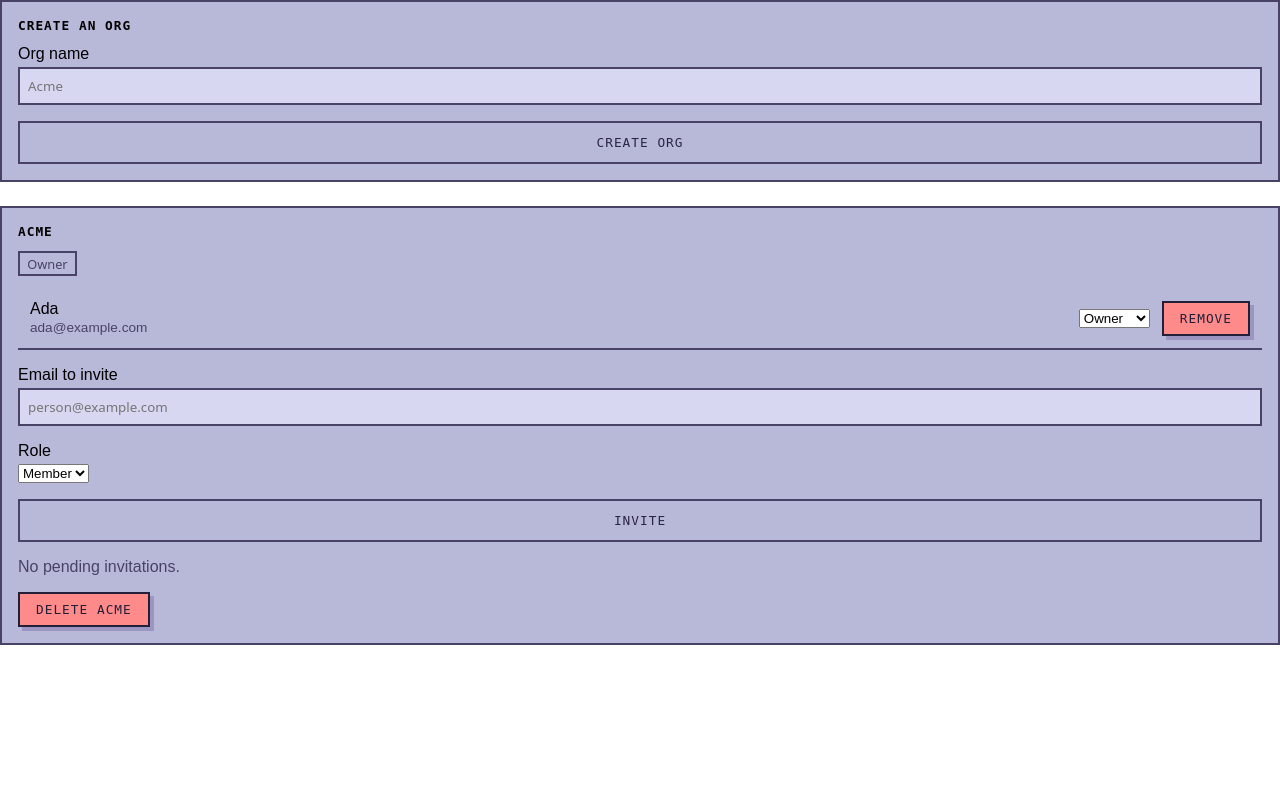
Test case: OrgsPage › deletes the org and stops listing it
The width and height of the screenshot is (1280, 800).
Click the button "Delete Acme".
click(84, 610)  # box x1=18 y1=592 x2=150 y2=627
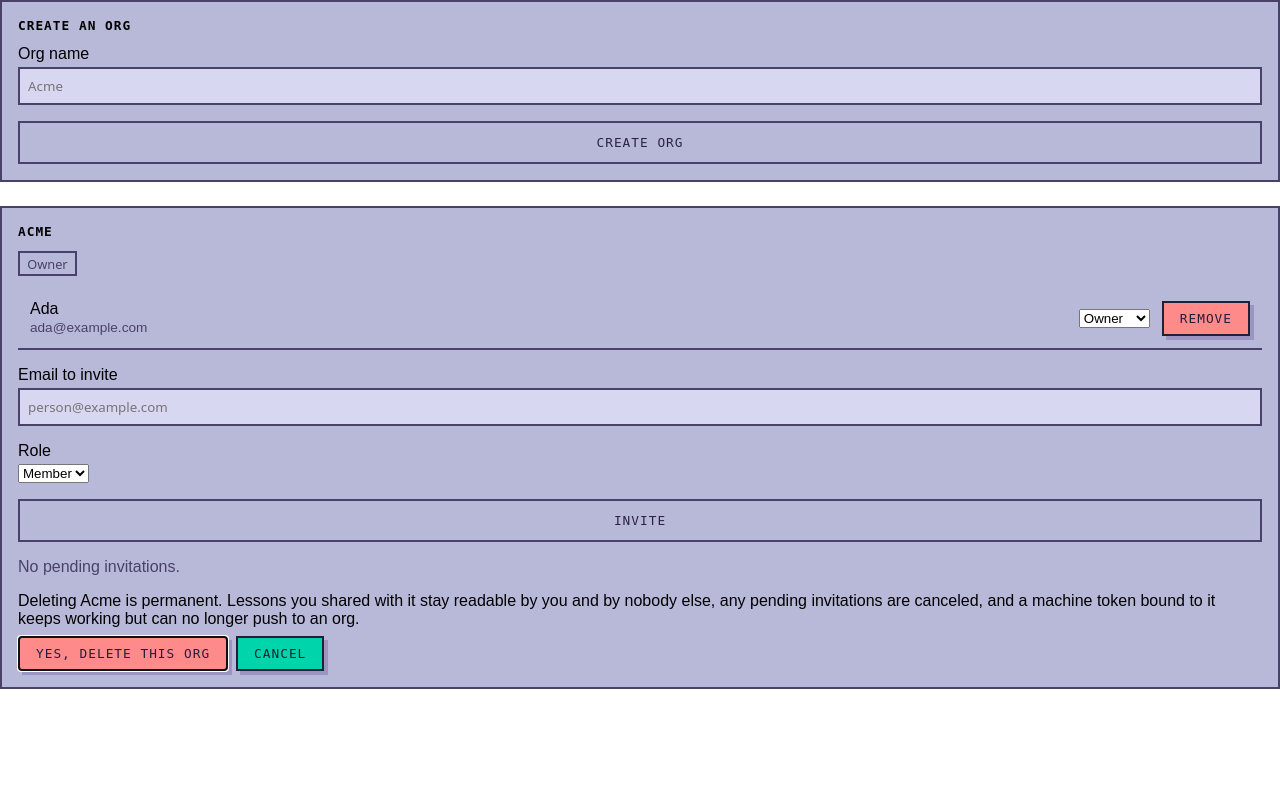
Click the button "Yes, delete this org".
click(123, 654)  # box x1=18 y1=636 x2=228 y2=671
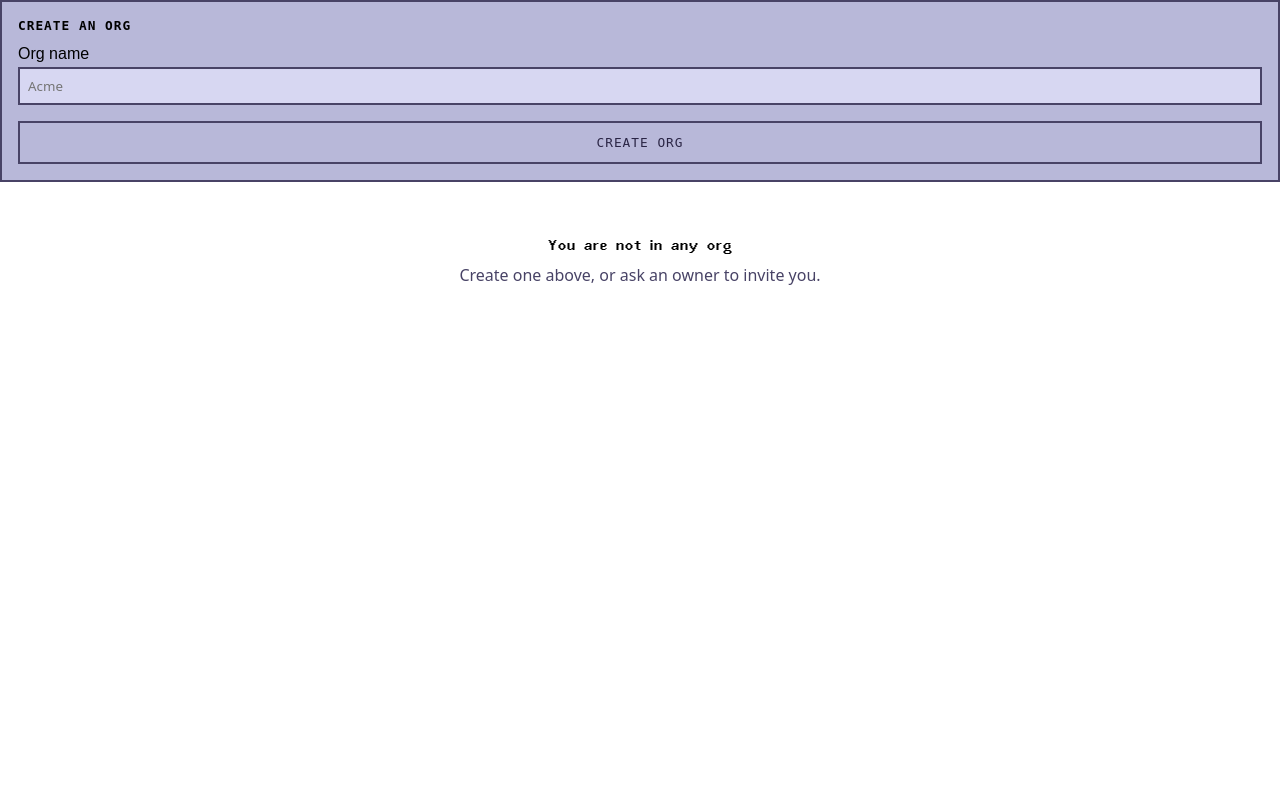
Expected: the heading "You are not in any org" is shown, x1=548 y1=238 x2=732 y2=256
